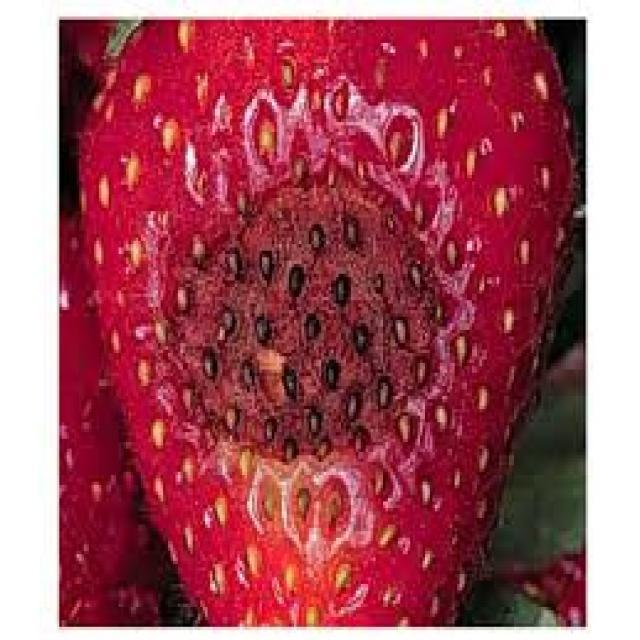Mancha negra Antracnosis: (94, 26, 534, 618)
